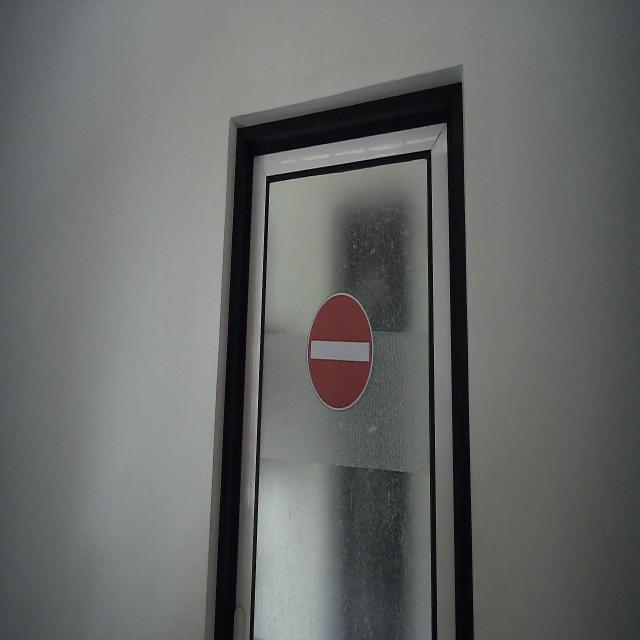no_entry: (306, 291, 375, 414)
